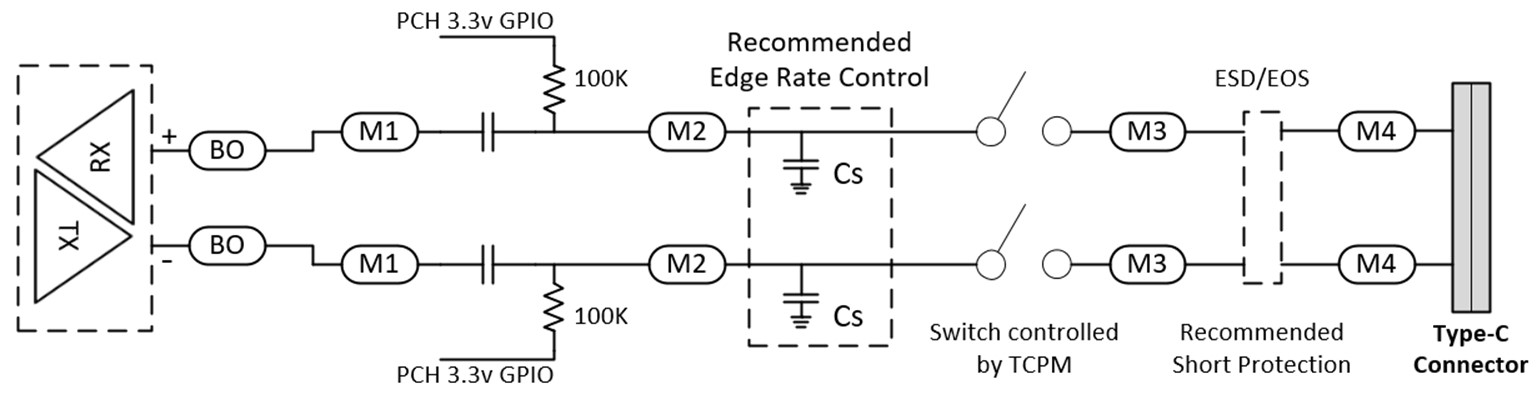capacitor: (470, 105, 508, 165), (476, 238, 501, 291)
dotted_rectangle: (739, 94, 899, 361), (11, 53, 157, 342), (1242, 102, 1290, 291)
oval: (184, 128, 270, 176), (187, 222, 271, 271), (339, 108, 419, 159), (337, 247, 425, 290), (647, 244, 727, 291), (1334, 241, 1419, 285), (1342, 110, 1414, 161), (1108, 245, 1187, 290), (1107, 113, 1185, 158), (645, 116, 722, 153)
rectangle: (1451, 76, 1496, 322)
resistor: (536, 54, 568, 118), (539, 282, 567, 336)
switch: (970, 62, 1082, 167), (970, 198, 1076, 298)
